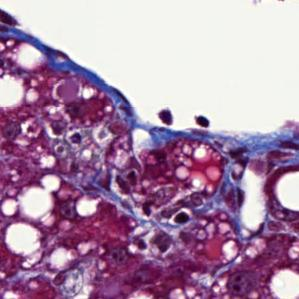inflammation: (106, 168, 143, 199), (40, 115, 73, 145), (169, 205, 194, 230)
